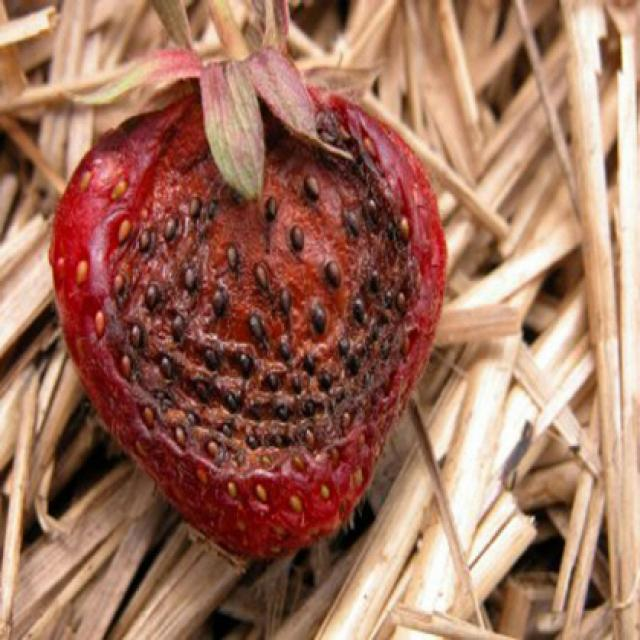Anthracnose Fruit Rot: (48, 87, 447, 561)
